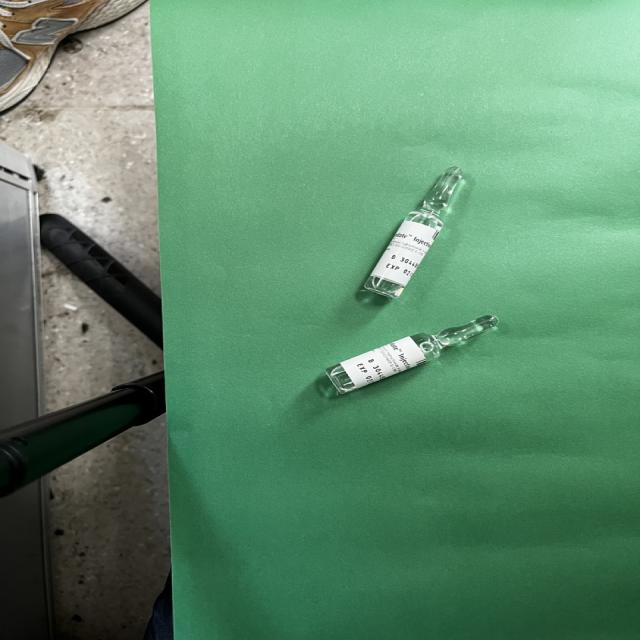Ampoules: (324, 315, 498, 394)
